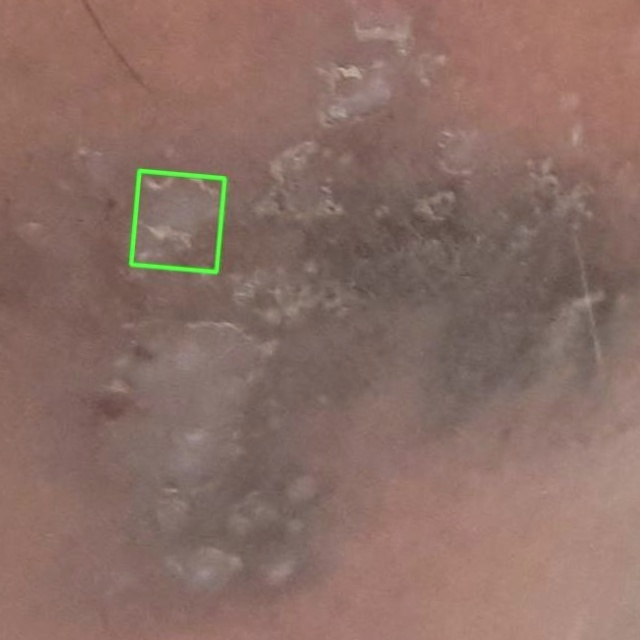Contact Dermatitis: (131, 170, 224, 271)
